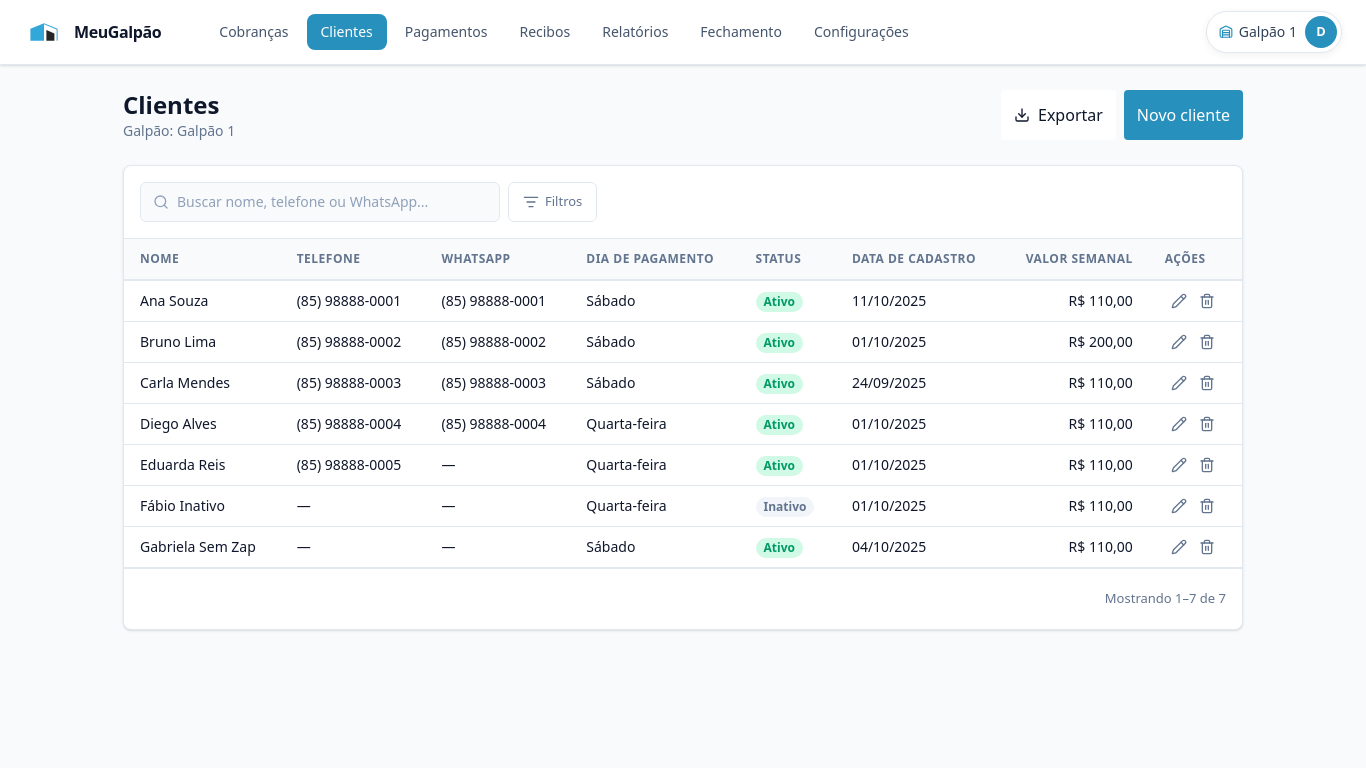
Menu principal › a logo leva para as Cobranças
Check: the heading "Clientes" is shown, box [123,89,235,121]
Click the link "MeuGalpão" at (93, 32), box [24,12,161,52]
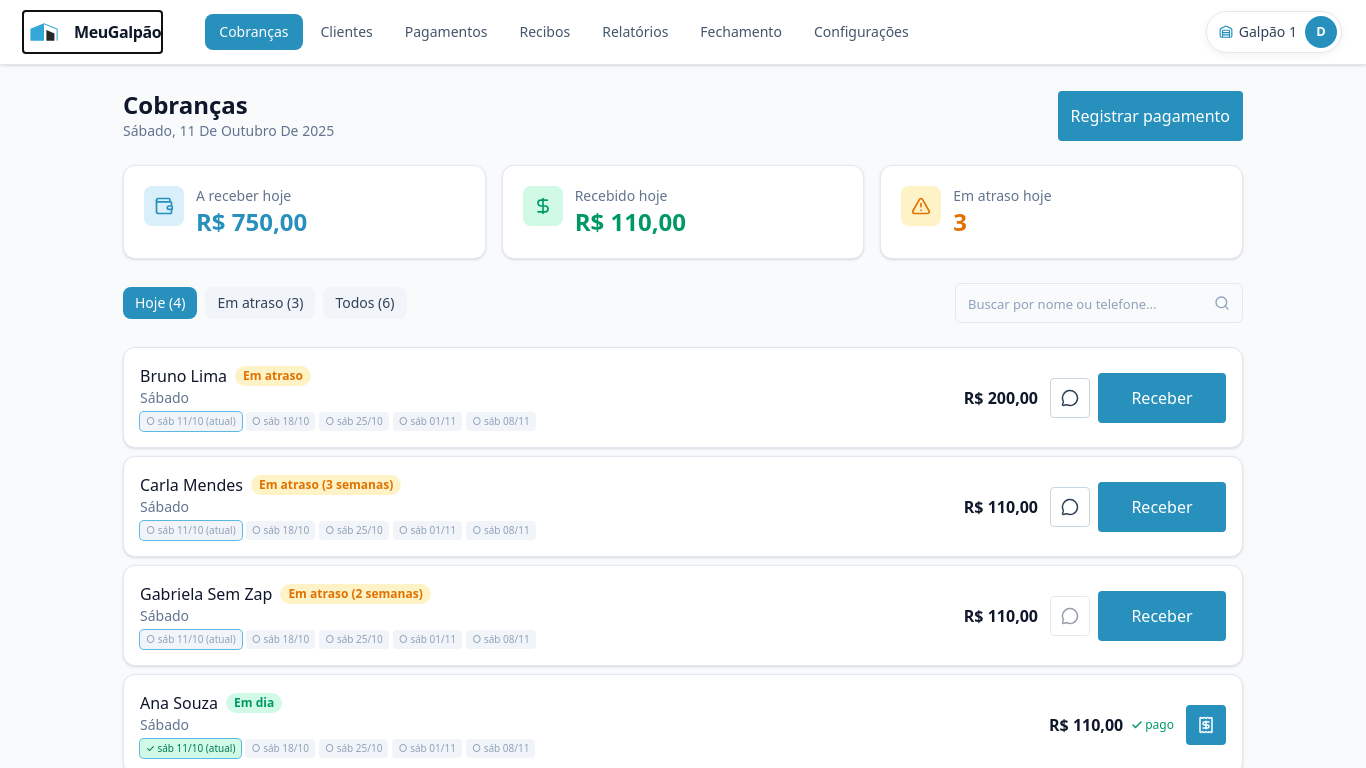
Check: the heading "Cobranças" is shown, box [123,88,248,121]
